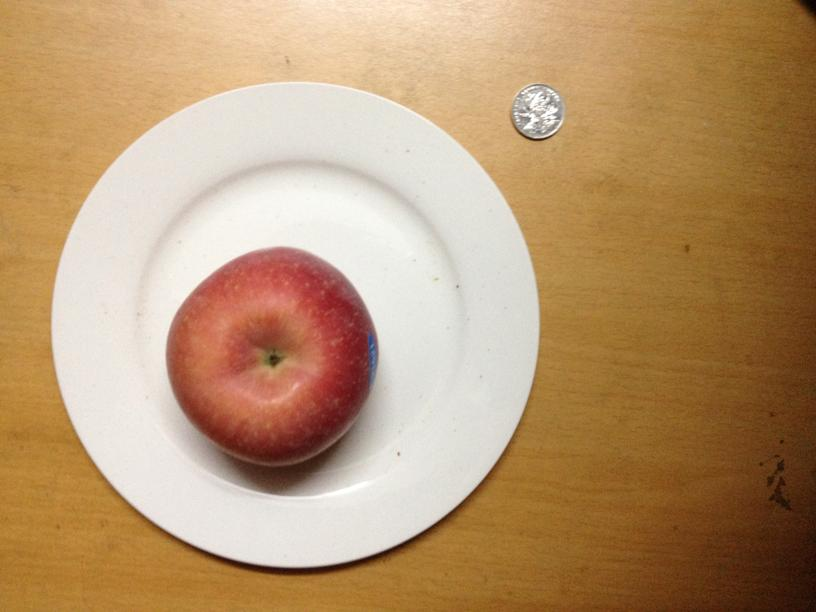apple: (161, 247, 379, 467)
coin: (509, 82, 566, 139)
